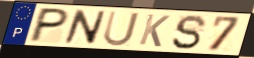7: (208, 14, 243, 53)
K: (137, 13, 172, 49)
N: (62, 9, 108, 46)
P: (27, 6, 72, 43)
S: (170, 14, 209, 51)
U: (101, 10, 141, 48)
